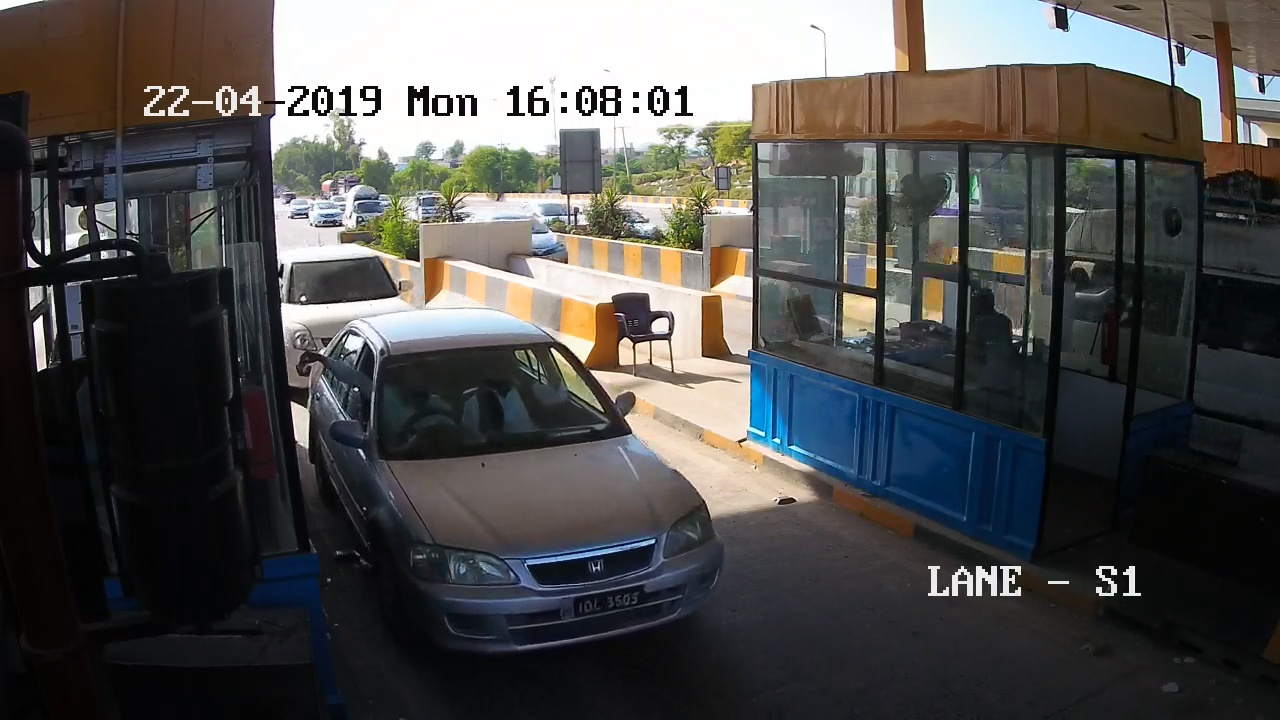Number Plate (Car): (570, 591, 643, 614)
